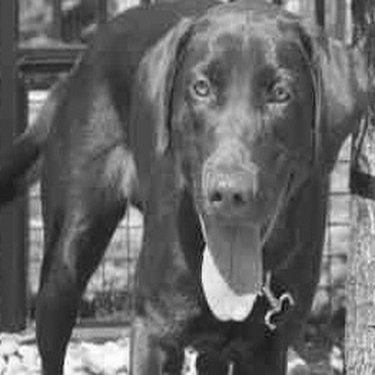dog: (1, 1, 371, 374)
